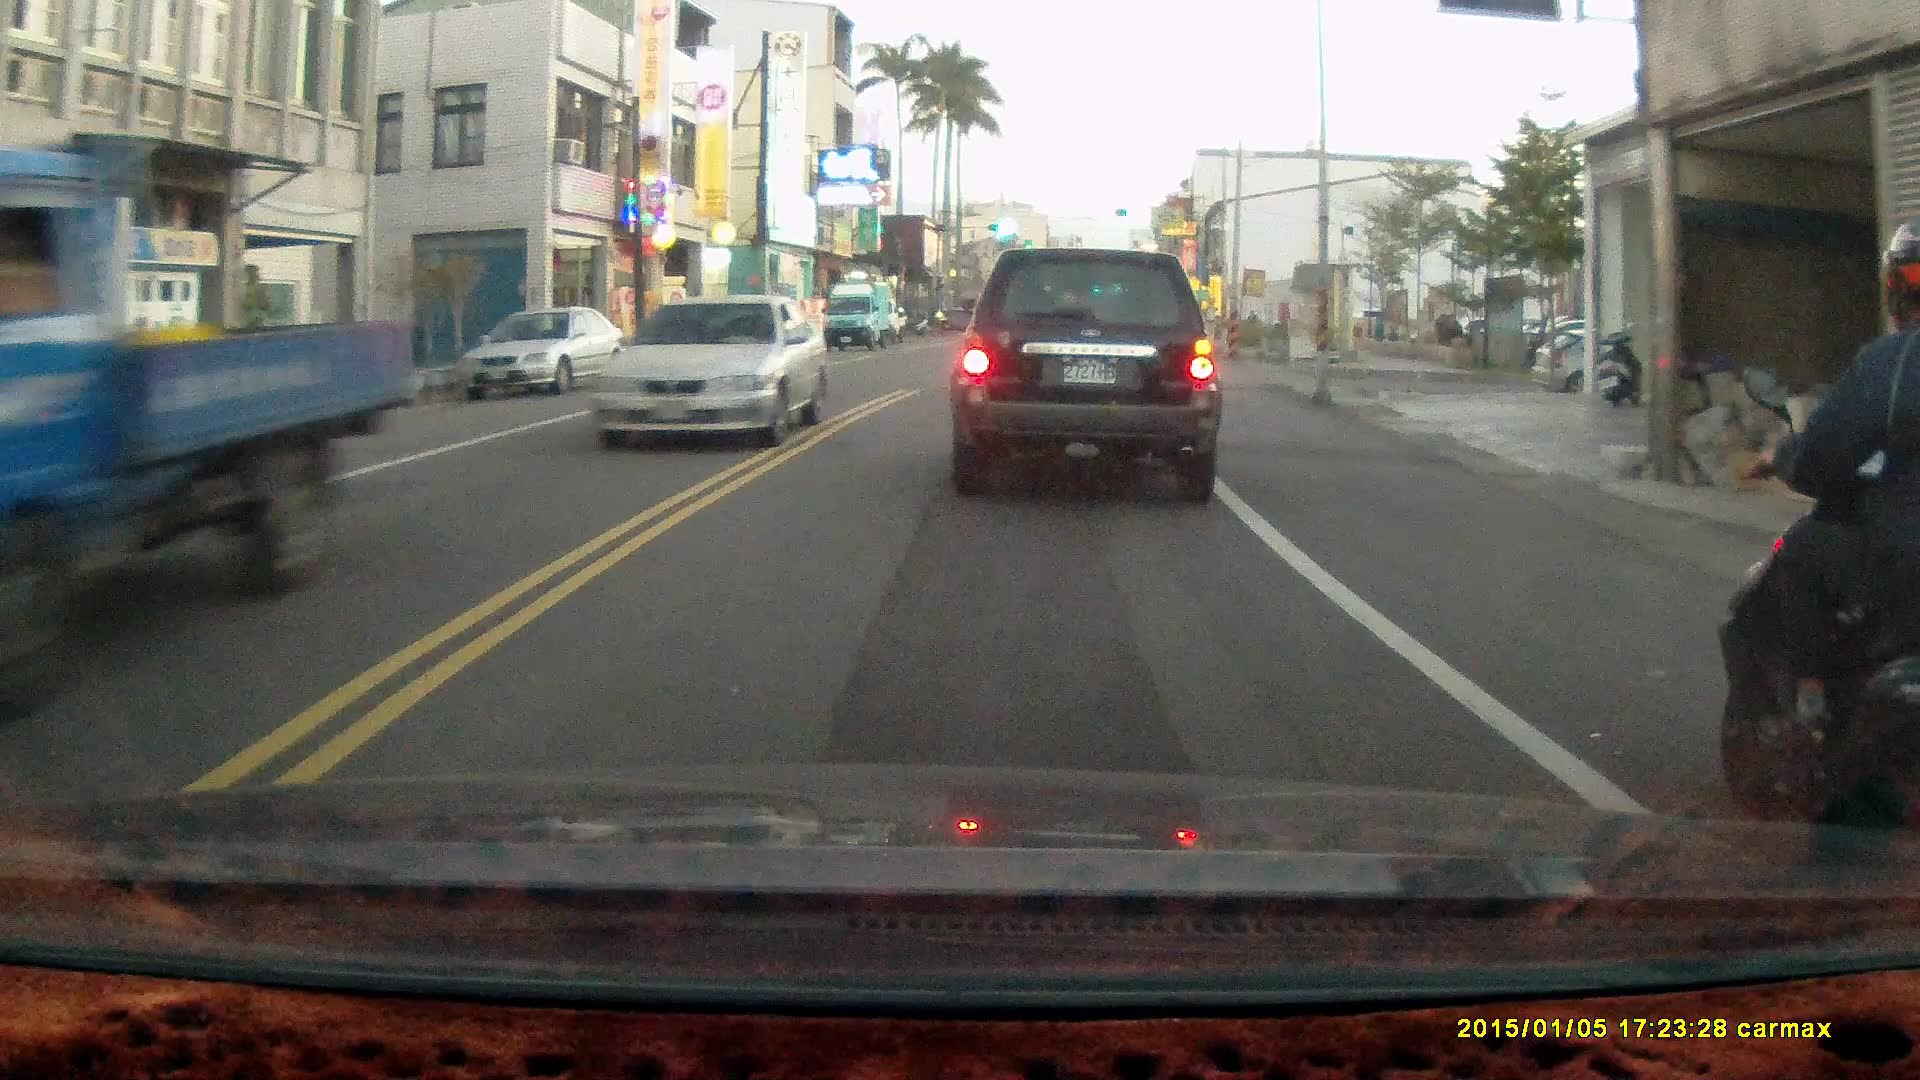rider: (1714, 213, 1920, 900)
vehicle: (1, 150, 419, 647), (947, 242, 1224, 496), (590, 291, 828, 452), (453, 306, 627, 398), (1527, 326, 1730, 403), (822, 281, 901, 355)
